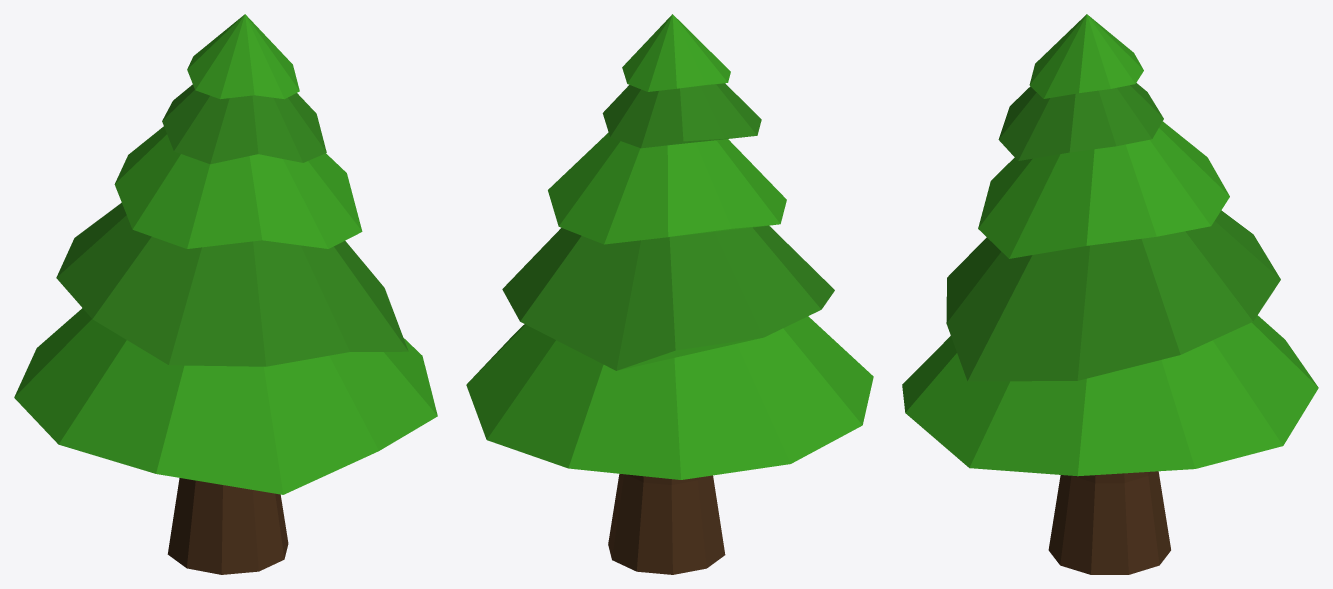
Rendered from PinArv2.fbx.
3 views of the same model, side by side, from view 1: azimuth 30°, elevation 25°; view 2: azimuth 150°, elevation 25°; view 3: azimuth 270°, elevation 25° (orthographic). The views are drawn at different scales.
Parts seen in each view (by area): view 1: Cone; view 2: Cone; view 3: Cone.
Boxes of the visible parts, x1,y1,x2,y2 form: Cone: (14,14,437,574); Cone: (466,14,873,574); Cone: (902,14,1318,574).
Size of the model in its own units: 407 by 579 by 406.
